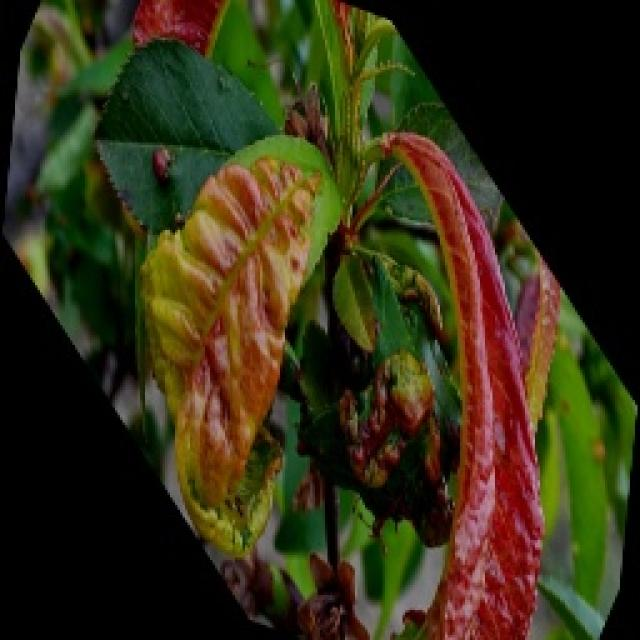peach_leaf_curl: (165, 112, 580, 640)
